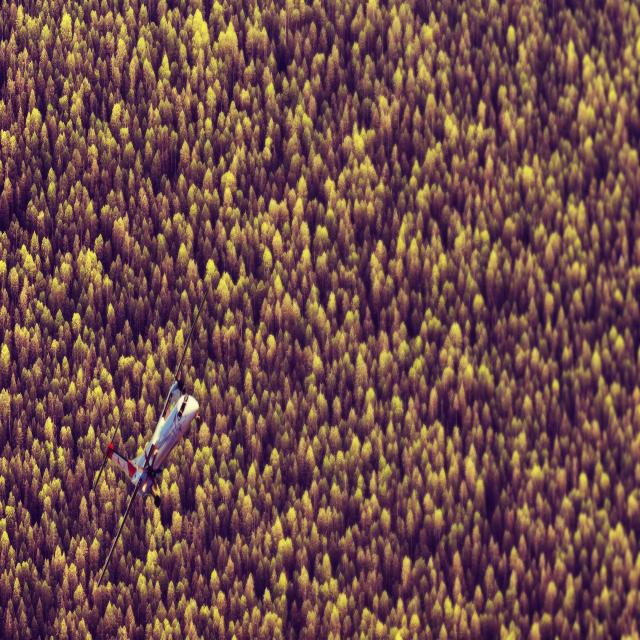airplane: (91, 288, 209, 588)
